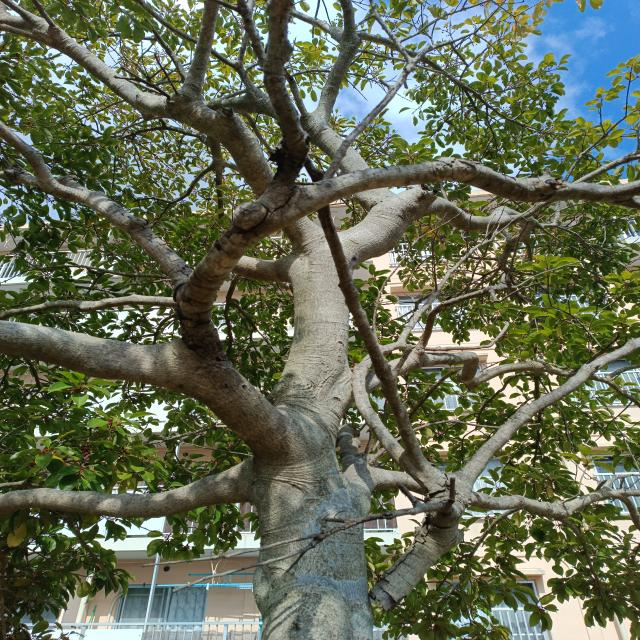Branch: (174, 157, 633, 357), (0, 3, 321, 253), (0, 318, 290, 458), (7, 168, 194, 282), (303, 0, 396, 211), (341, 183, 542, 274), (365, 464, 620, 521), (0, 462, 249, 517), (353, 351, 615, 394), (508, 149, 639, 226), (412, 282, 534, 350), (393, 322, 509, 374)
Twig: (306, 153, 431, 466), (352, 244, 484, 461), (456, 338, 639, 483), (541, 115, 626, 227), (0, 295, 175, 320), (177, 0, 220, 94), (0, 120, 56, 182), (540, 224, 618, 262), (232, 299, 276, 353), (30, 265, 170, 280), (224, 275, 243, 358), (32, 0, 57, 26), (4, 2, 30, 19)
